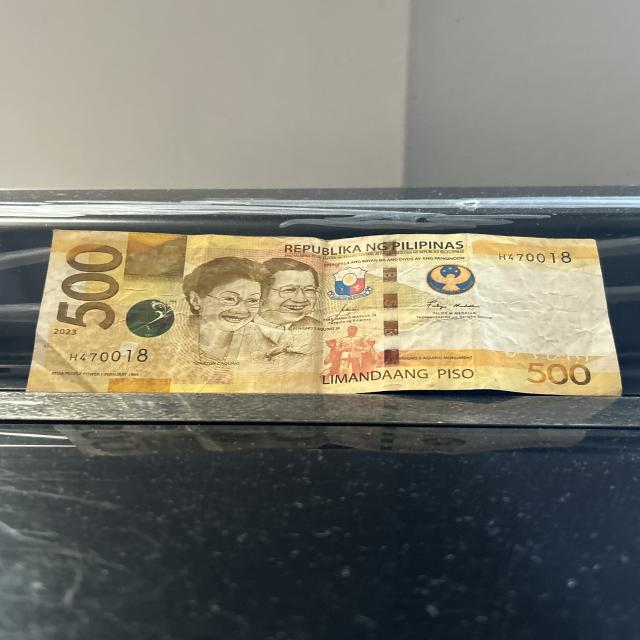concealed_value: (127, 232, 187, 287)
optically_variable_device: (123, 299, 176, 340)
watermark: (475, 260, 599, 360)
